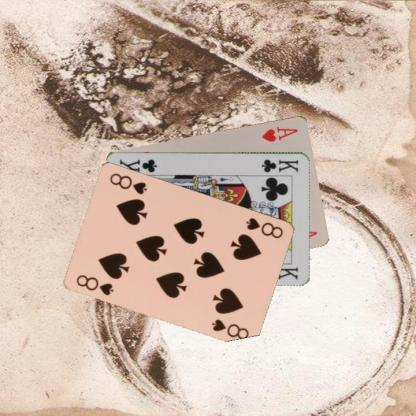8s: (74, 272, 115, 298), (244, 215, 285, 240)
Ah: (260, 124, 300, 143)
Kc: (259, 156, 299, 173)
